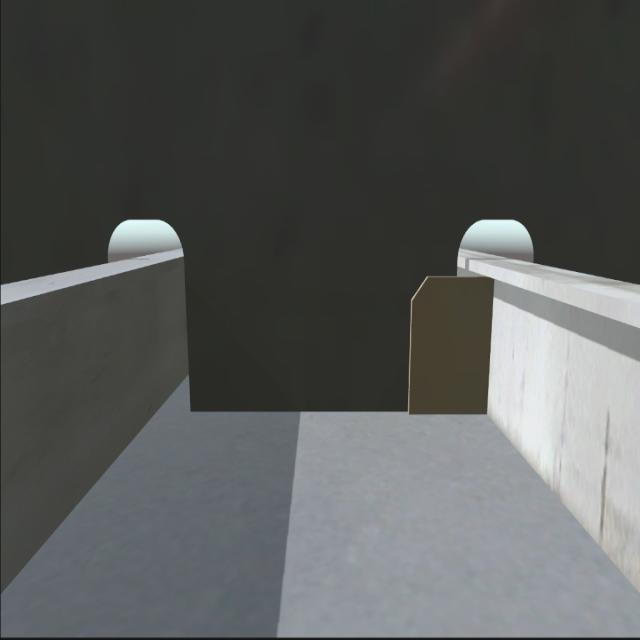fillet_yong_jeop_jang: (192, 399, 491, 420)
longi_yong_jeop_jang: (481, 277, 500, 415)
plate_CP03: (402, 261, 496, 413)
